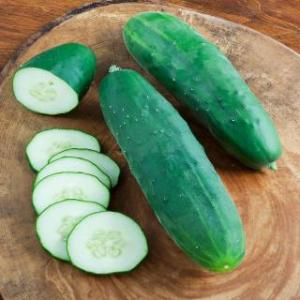cucumber: (97, 69, 249, 275), (121, 5, 283, 170), (9, 42, 96, 124)
